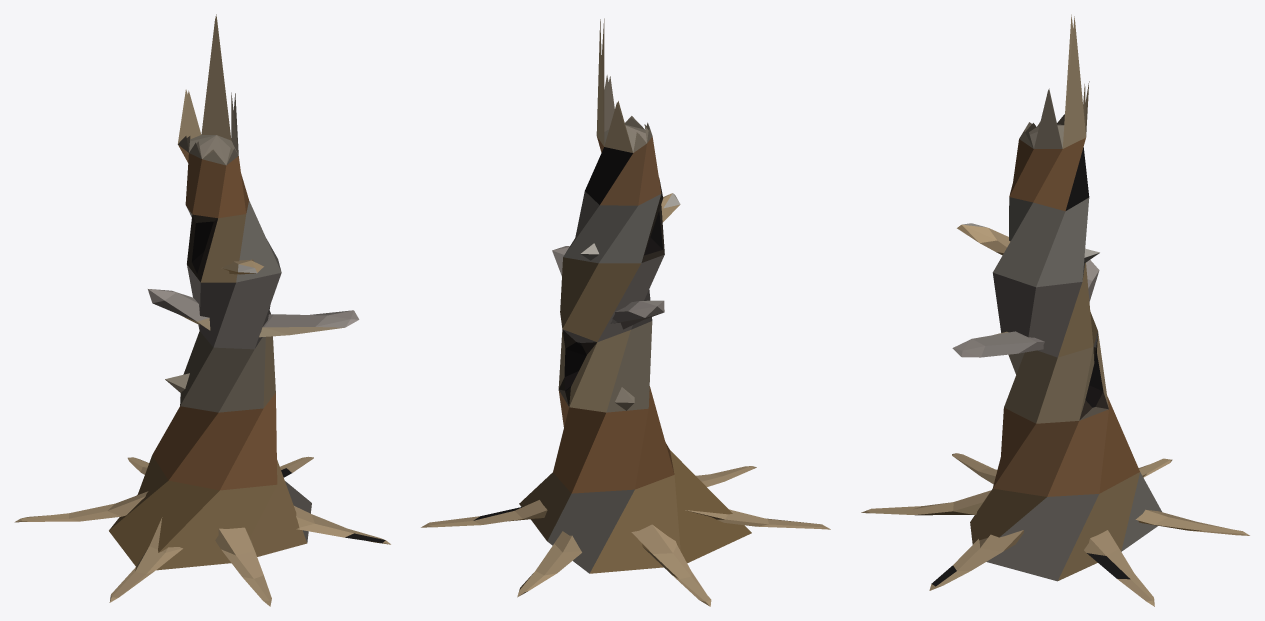
Rendered from Petrified_Tree.glb.
The picture shows the model from 3 angles, left to right: view 1: azimuth 30°, elevation 25°; view 2: azimuth 150°, elevation 25°; view 3: azimuth 270°, elevation 25°; orthographic projection. The views are drawn at different scales.
Parts seen in each view (by area): view 1: Petrified_Tree; view 2: Petrified_Tree; view 3: Petrified_Tree.
Boxes of the visible parts, x1,y1,x2,y2 form: Petrified_Tree: [14, 14, 390, 606]; Petrified_Tree: [421, 18, 830, 606]; Petrified_Tree: [861, 14, 1249, 606].
Size of the model in its own units: 6.26 by 9.99 by 6.76.
